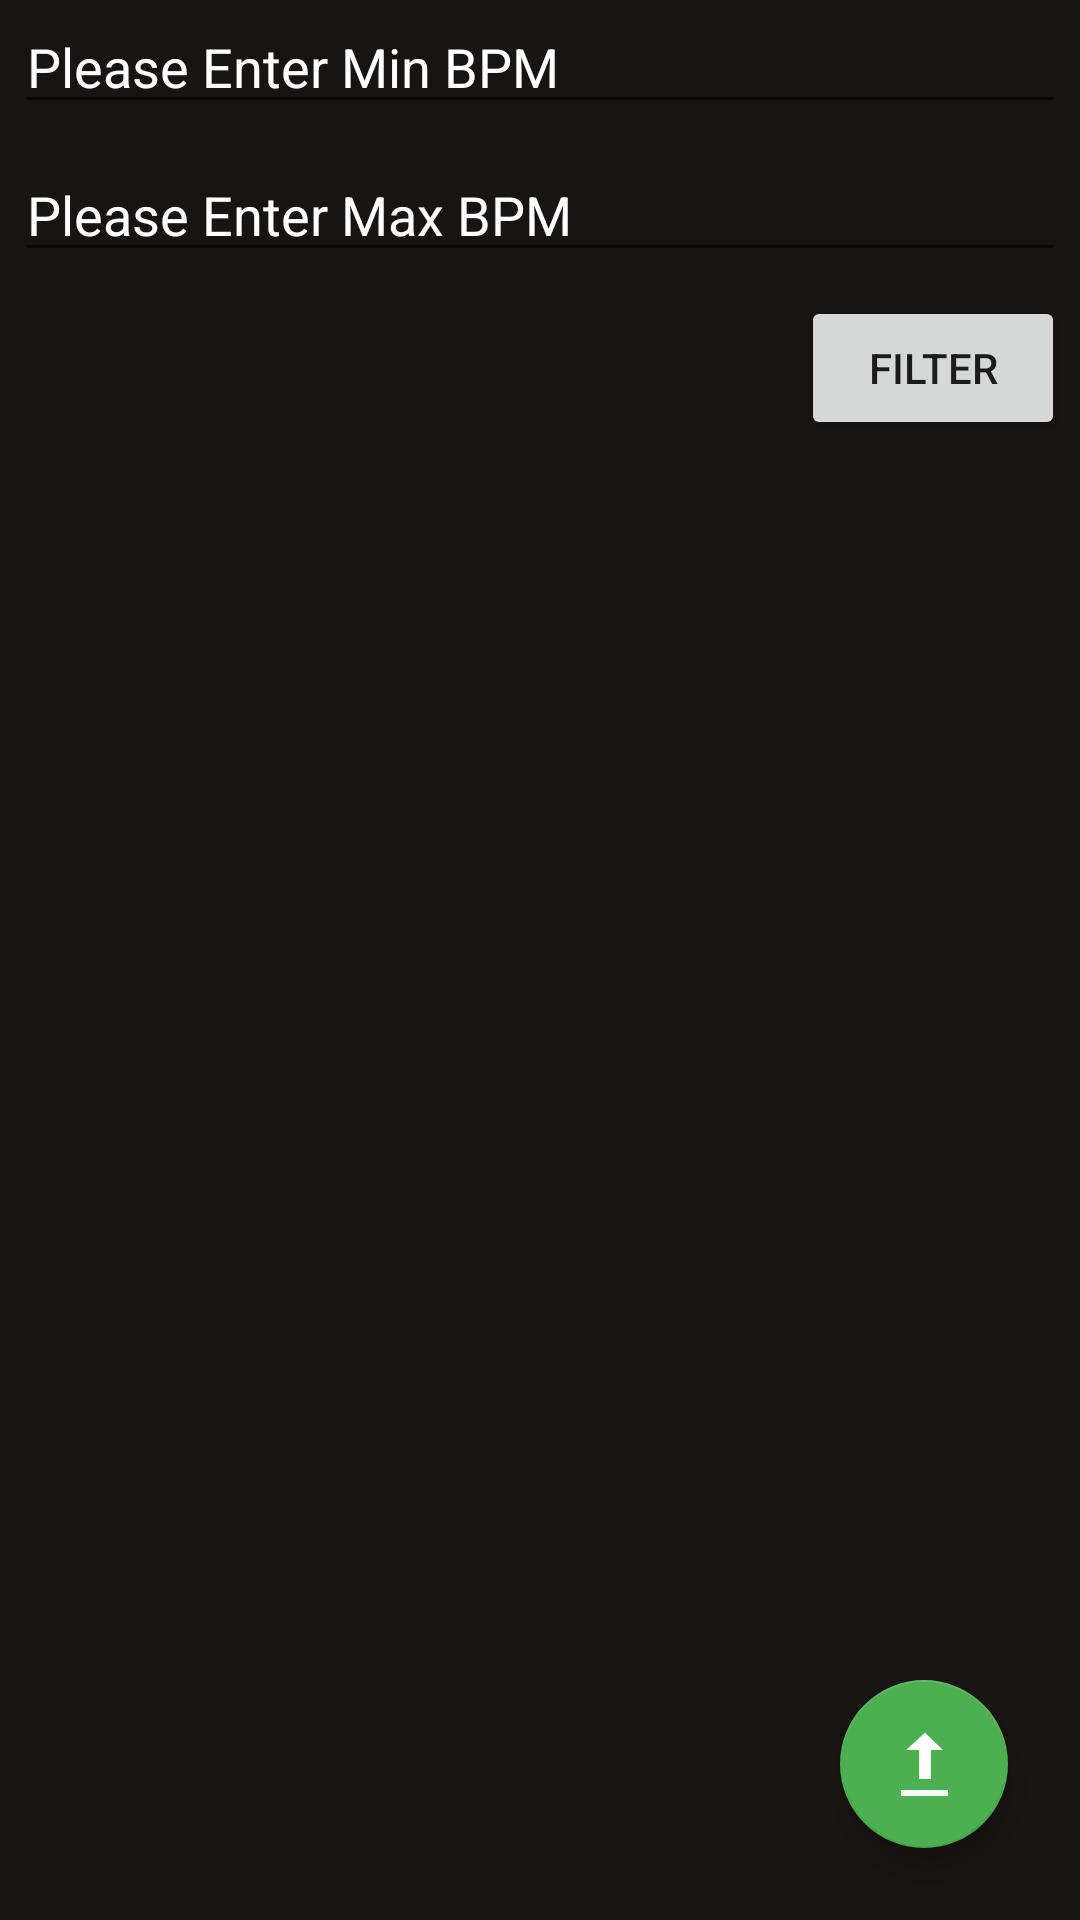

Point at icon controls on the screen. Image size 1080px×1920px, points as [x,y].
upload: [924,1764]
